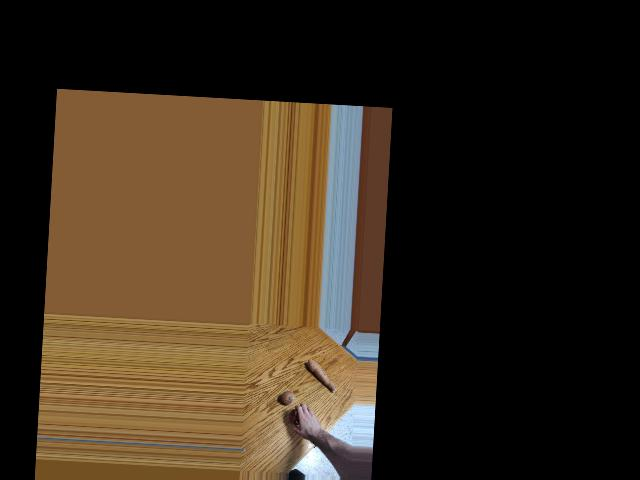onion: (289, 408, 305, 424)
